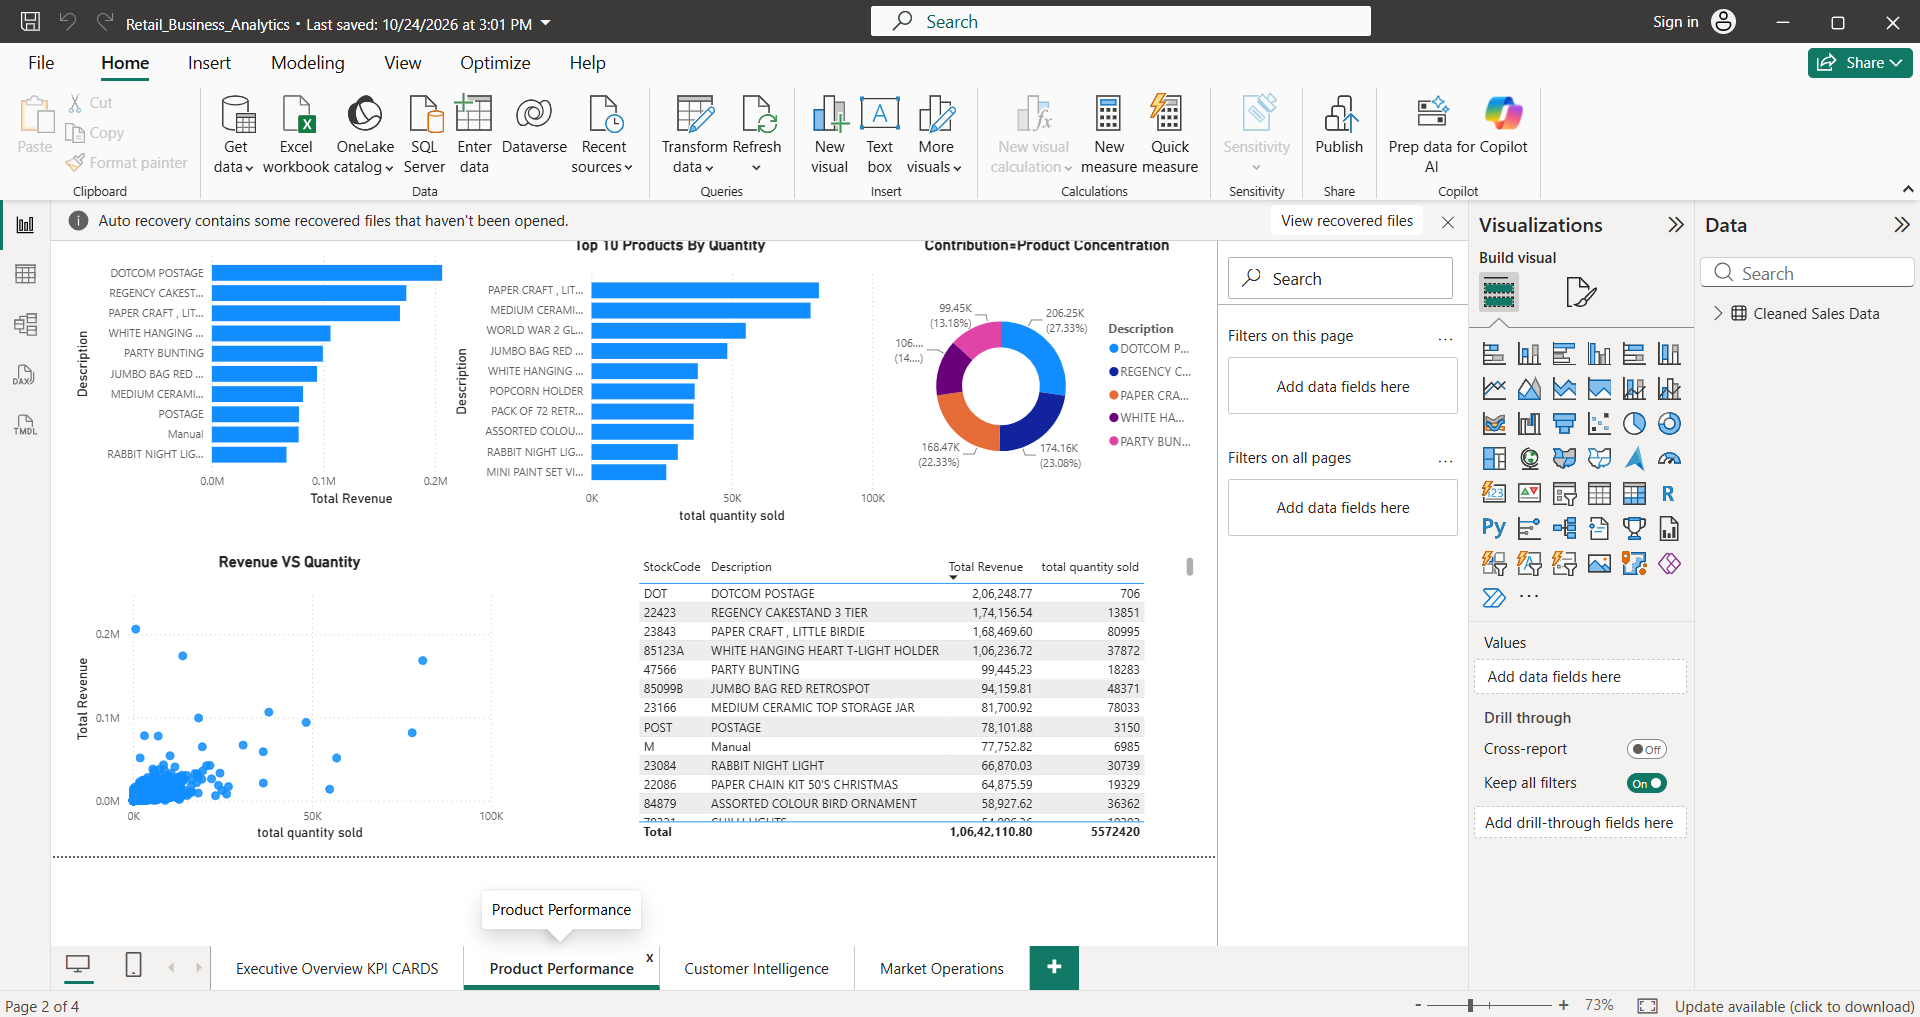

What the dashboard file says about the page in this screenshot:
{"tool":"powerbi","page":{"name":"Product Performance","canvas":[1280,720],"ordinal":1},"visuals":[{"type":"barChart","title":"Top 10 Products By Revenue","fields":{"Category":["Cleaned Sales Data.Description"],"Y":["Cleaned Sales Data.Total Revenue"]},"box":[22,19.2,480.3,321.1],"z":0},{"type":"barChart","title":"Top 10 Products By Quantity","fields":{"Category":["Cleaned Sales Data.Description"],"Y":["Cleaned Sales Data.total quantity sold"]},"box":[437.7,38.4,483,321.1],"z":1000},{"type":"scatterChart","title":"Revenue VS Quantity","fields":{"X":["Cleaned Sales Data.total quantity sold"],"Y":["Cleaned Sales Data.Total Revenue"],"Category":["Cleaned Sales Data.StockCode"]},"box":[22,387,480,321],"z":2000},{"type":"tableEx","fields":{"Values":["Cleaned Sales Data.StockCode","Cleaned Sales Data.Description","Cleaned Sales Data.Total Revenue","Cleaned Sales Data.total quantity sold"]},"box":[639.5,387,620.2,321.1],"z":3000},{"type":"donutChart","title":"Top 5 Products Revenue Share          Product Contribution=Product Concentration","fields":{"Category":["Cleaned Sales Data.Description"],"Y":["Cleaned Sales Data.Total Revenue"]},"box":[920.8,19.2,345.8,321.1],"z":4000}]}

Visuals, with their boxes on the page's 1280x720 design canvas (x1, y1, x2, y2). These are canvas units, not pixel positions in the 1920x1017 screenshot, which may show the page scaled, cropped or inside an application window:
"Top 10 Products By Revenue" barChart: 22, 19, 502, 340
"Top 10 Products By Quantity" barChart: 438, 38, 921, 360
"Revenue VS Quantity" scatterChart: 22, 387, 502, 708
tableEx - Cleaned Sales Data.StockCode x Cleaned Sales Data.Description: 640, 387, 1260, 708
"Top 5 Products Revenue Share          Product Contribution=Product Concentration" donutChart: 921, 19, 1267, 340
